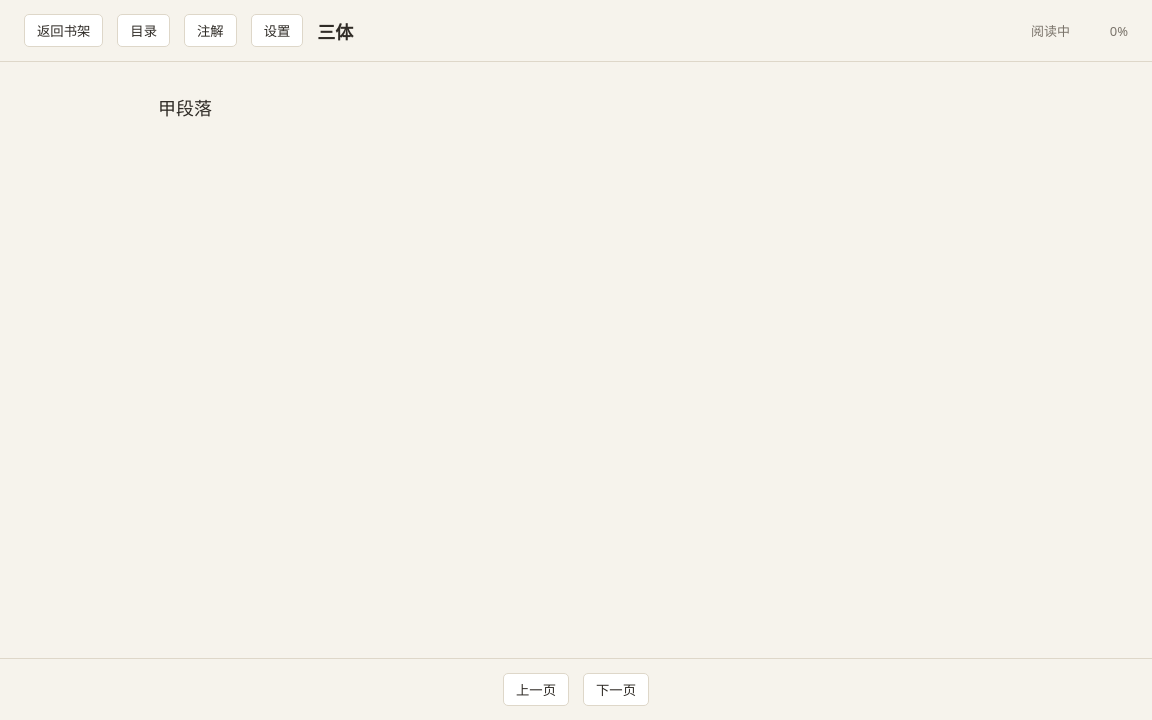
Test: TxtReaderView 目录 › 一个标题都认不出来时按块首列，至少还能跳段落
Expected: the text "阅读中" is shown, [1031, 21, 1070, 40]
Click the button "目录".
click(144, 30)  # box [117, 14, 170, 47]
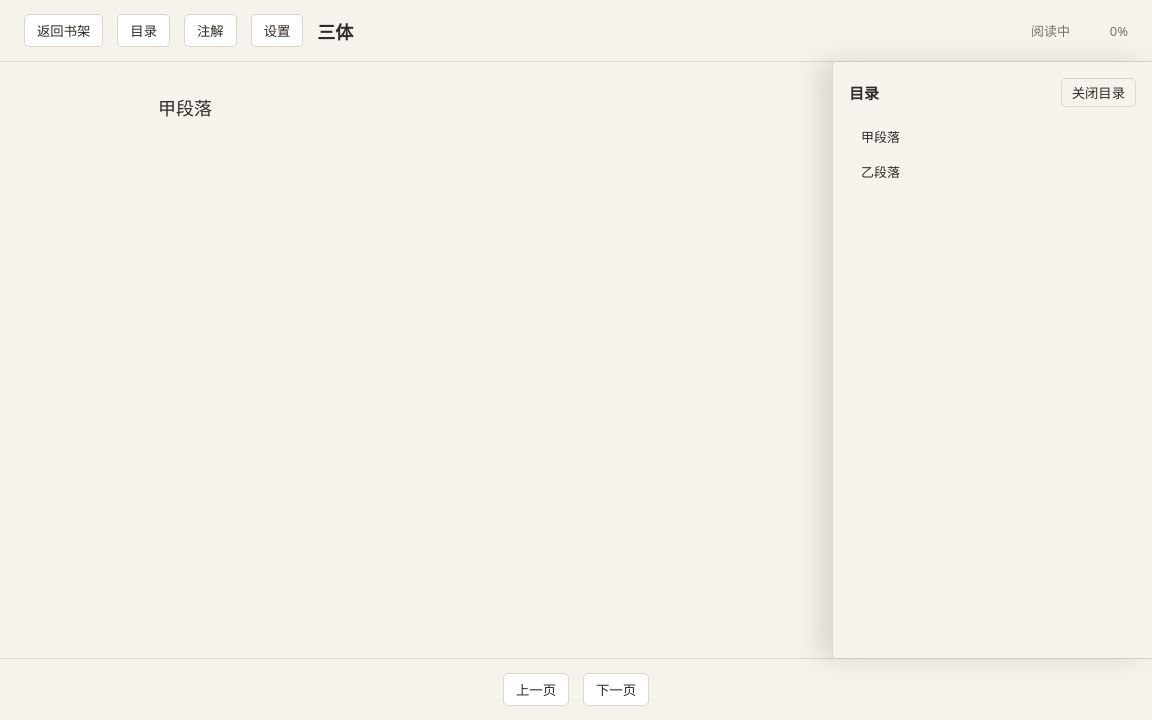
Click the button "乙段落".
click(881, 172)  # box [849, 154, 1136, 189]
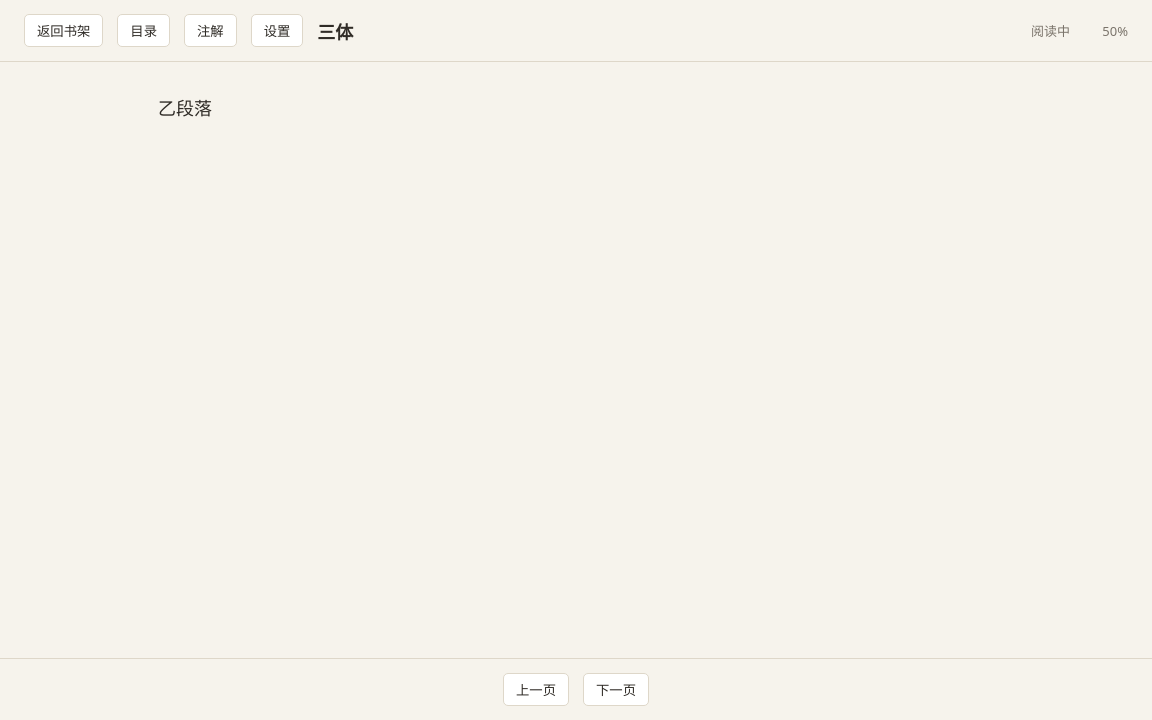
Expected: the text with class "txt-reader__block" reads "乙段落", [158, 99, 212, 119]
